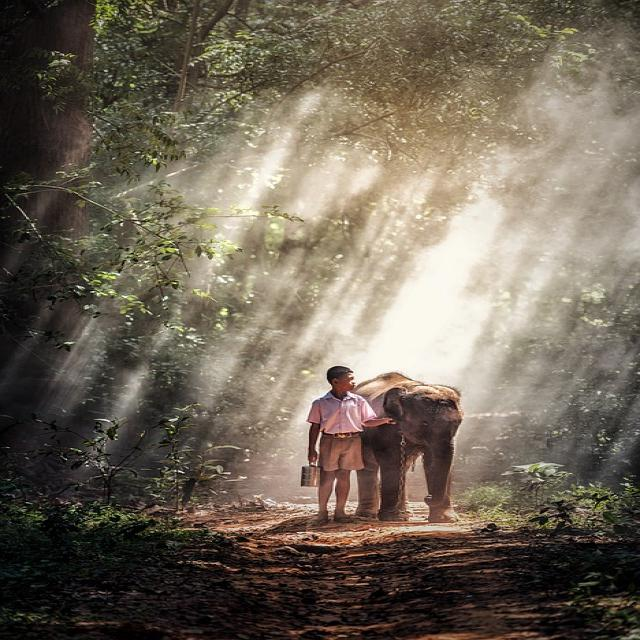elephant: (356, 372, 463, 522)
